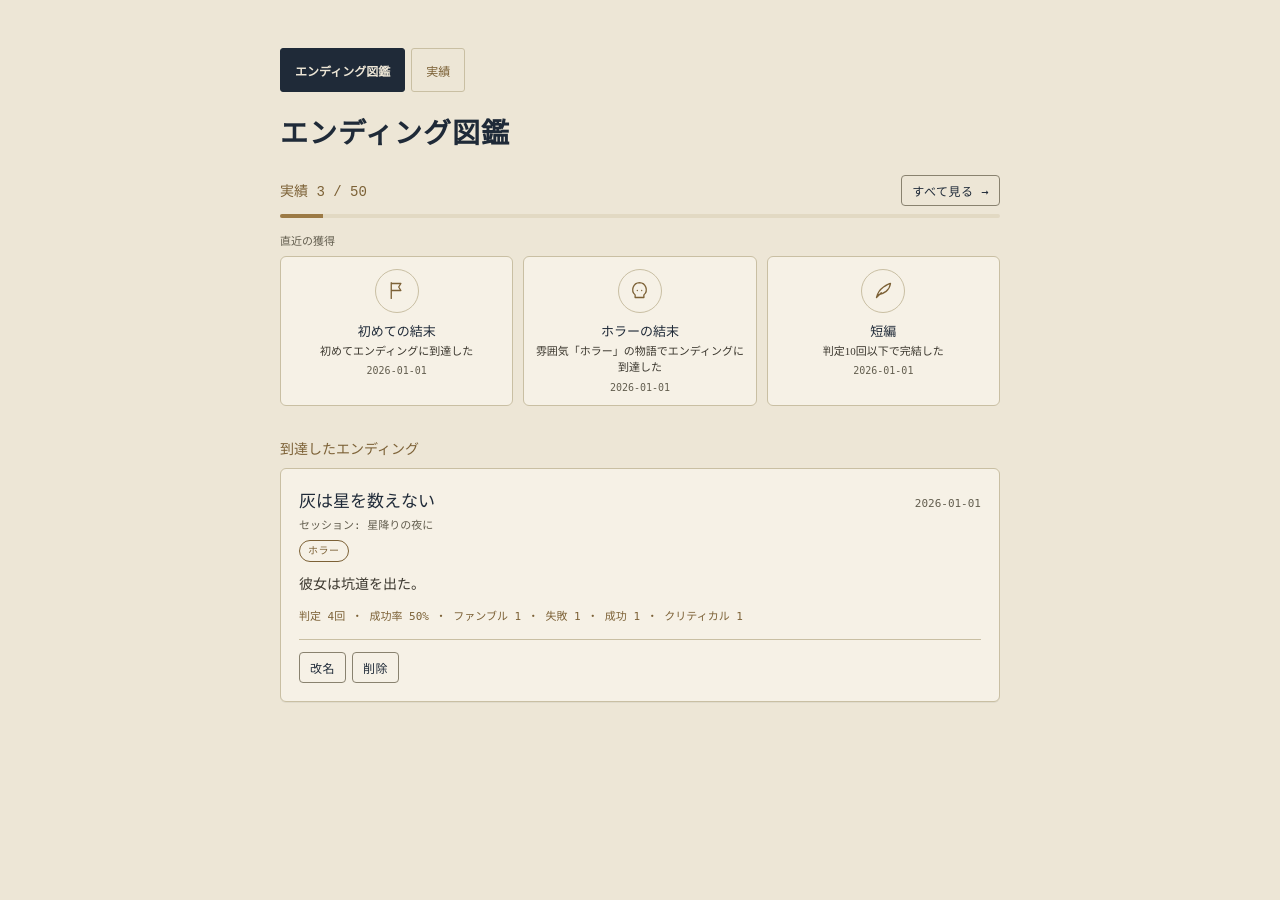
EndingGallery › deletes an ending after confirmation
Click the button "削除".
click(376, 667)  # box [352,652,399,683]
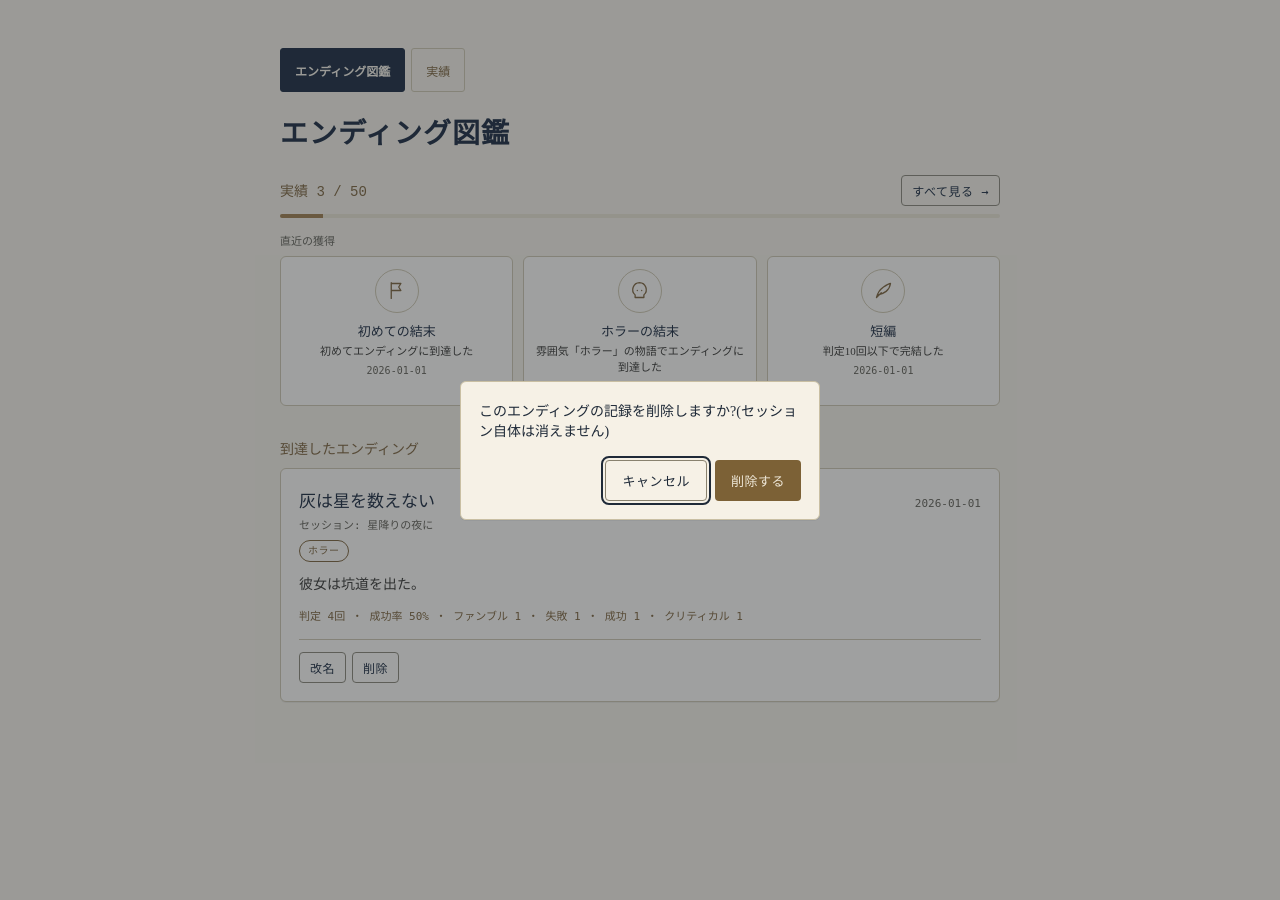
Click the button "削除する".
click(758, 480)  # box [715,460,801,500]
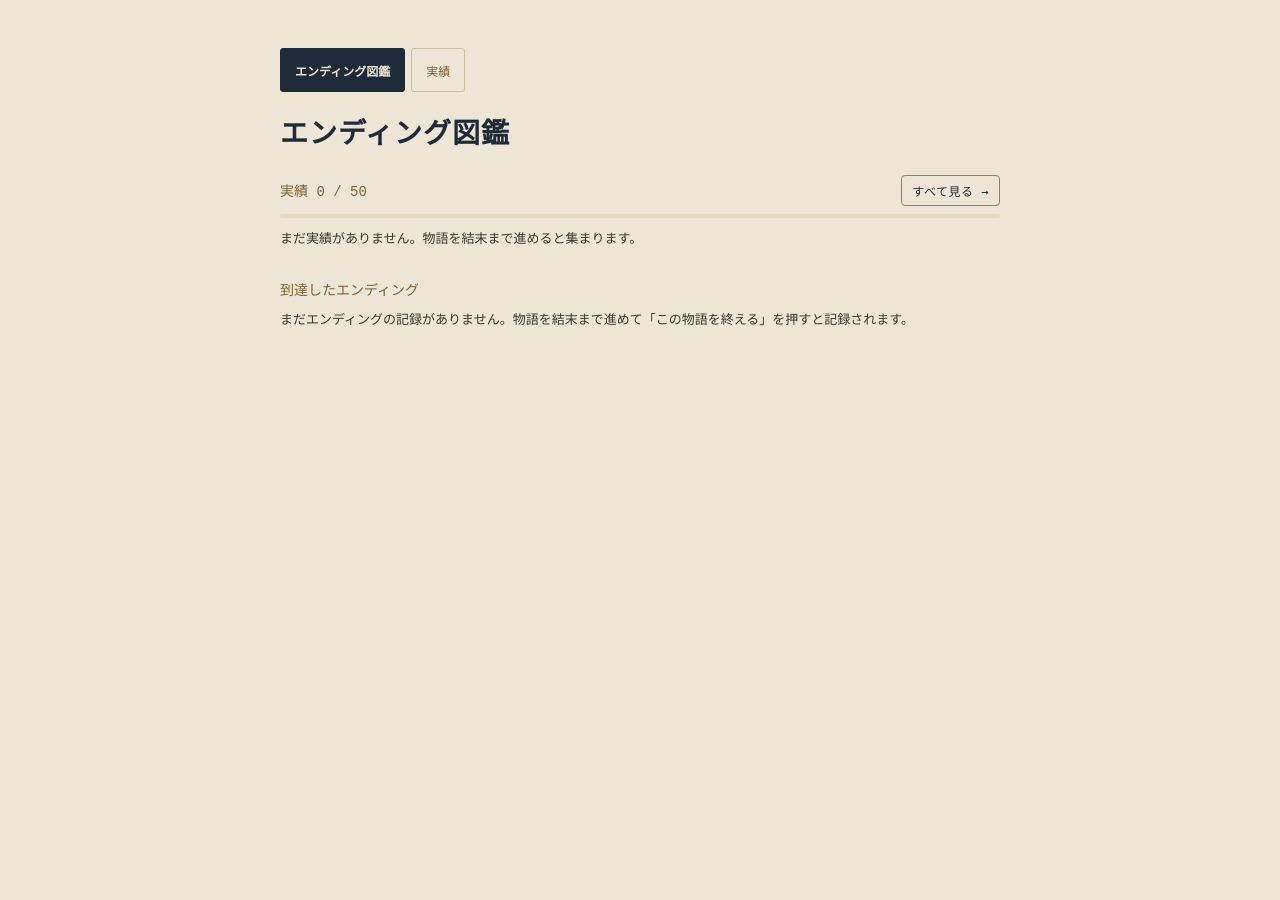
Expected: the text "灰は星を数えない" is gone
